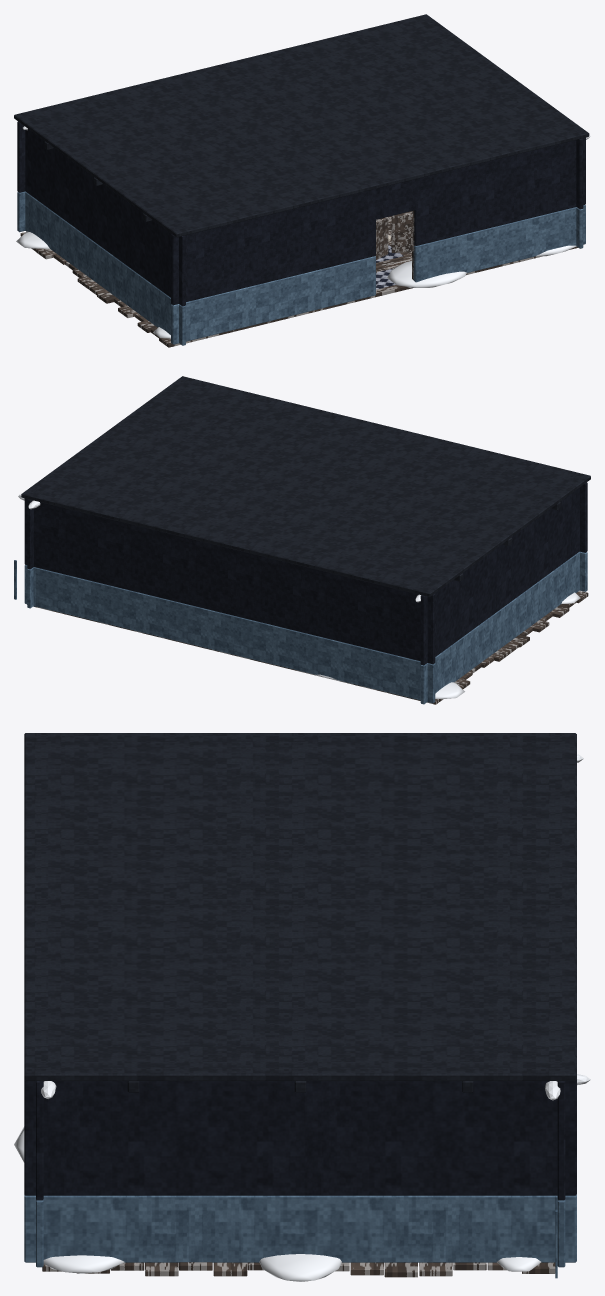
Rendered from bar_artico.fbx.
3 views of the same model, one above another, from view 1: azimuth 30°, elevation 25°; view 2: azimuth 150°, elevation 25°; view 3: azimuth 270°, elevation 25° (orthographic). The views are drawn at different scales.
Parts seen in each view (by area): view 1: Art_Techo, Art_Pared_S_Alta_Izq, Art_Pared_S_Alta_Der, Art_Pared_O_Alta, Art_Pared_S_Baja_Izq, Art_Pared_S_Baja_Der, Art_Pared_O_Baja, Art_Suelo_Tablas, Art_Nieve_Suelo, Art_Pared_S_Dintel, Art_Saloona_Der, Art_Pared_N_Alta (+2 smaller); view 2: Art_Techo, Art_Pared_N_Alta, Art_Pared_N_Baja, Art_Pared_O_Alta, Art_Pared_O_Baja, Art_Suelo_Tablas, Art_Pared_S_Alta_Izq, Art_Nieve_Suelo, Art_Pared_E_Alta; view 3: Art_Techo, Art_Pared_E_Alta, Art_Pared_E_Baja, Art_Suelo_Tablas, Art_Nieve_Suelo, Art_Pared_N_Alta, Art_Pared_S_Alta_Der.
Part boxes in pixels (x1=…): Art_Techo: x1=14, y1=14, x2=589, y2=237; Art_Pared_S_Alta_Izq: x1=171, y1=189, x2=375, y2=305; Art_Pared_S_Alta_Der: x1=413, y1=137, x2=585, y2=245; Art_Pared_O_Alta: x1=25, y1=129, x2=185, y2=306; Art_Pared_S_Baja_Izq: x1=171, y1=256, x2=375, y2=344; Art_Pared_S_Baja_Der: x1=413, y1=205, x2=585, y2=282; Art_Pared_O_Baja: x1=25, y1=191, x2=185, y2=345; Art_Suelo_Tablas: x1=20, y1=211, x2=578, y2=347; Art_Nieve_Suelo: x1=16, y1=231, x2=576, y2=338; Art_Pared_S_Dintel: x1=373, y1=178, x2=418, y2=219; Art_Saloona_Der: x1=391, y1=214, x2=413, y2=253; Art_Pared_N_Alta: x1=17, y1=121, x2=25, y2=192; Art_Techo: x1=21, y1=376, x2=590, y2=596; Art_Pared_N_Alta: x1=24, y1=498, x2=435, y2=664; Art_Pared_N_Baja: x1=24, y1=565, x2=435, y2=703; Art_Pared_O_Alta: x1=420, y1=487, x2=579, y2=665; Art_Pared_O_Baja: x1=420, y1=552, x2=579, y2=704; Art_Suelo_Tablas: x1=27, y1=591, x2=588, y2=704; Art_Pared_S_Alta_Izq: x1=580, y1=482, x2=587, y2=552; Art_Nieve_Suelo: x1=316, y1=592, x2=580, y2=699; Art_Pared_E_Alta: x1=27, y1=499, x2=33, y2=569; Art_Techo: x1=24, y1=733, x2=576, y2=1080; Art_Pared_E_Alta: x1=24, y1=1080, x2=576, y2=1195; Art_Pared_E_Baja: x1=24, y1=1194, x2=576, y2=1262; Art_Suelo_Tablas: x1=42, y1=1262, x2=555, y2=1277; Art_Nieve_Suelo: x1=14, y1=1126, x2=541, y2=1281; Art_Pared_N_Alta: x1=557, y1=1081, x2=565, y2=1200; Art_Pared_S_Alta_Der: x1=36, y1=1081, x2=43, y2=1200.
Bounding box in the file's own units: 13.47 × 3.46 × 8.98.
38 materials, 14 textured.
